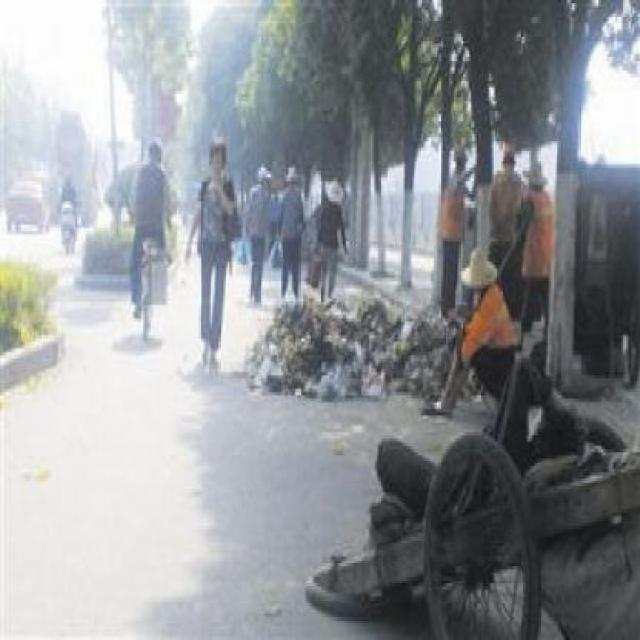garbage: (249, 288, 456, 395)
